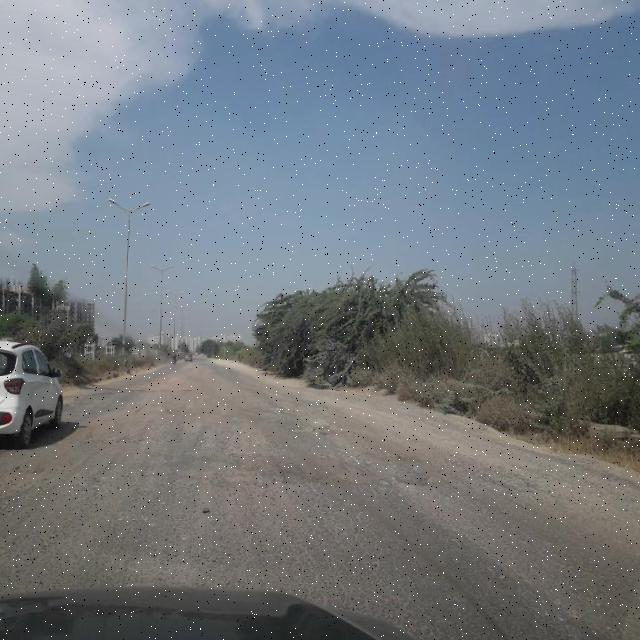D20: (1, 455, 462, 585)
D40: (84, 417, 268, 495), (280, 413, 371, 443), (1, 451, 67, 485)
